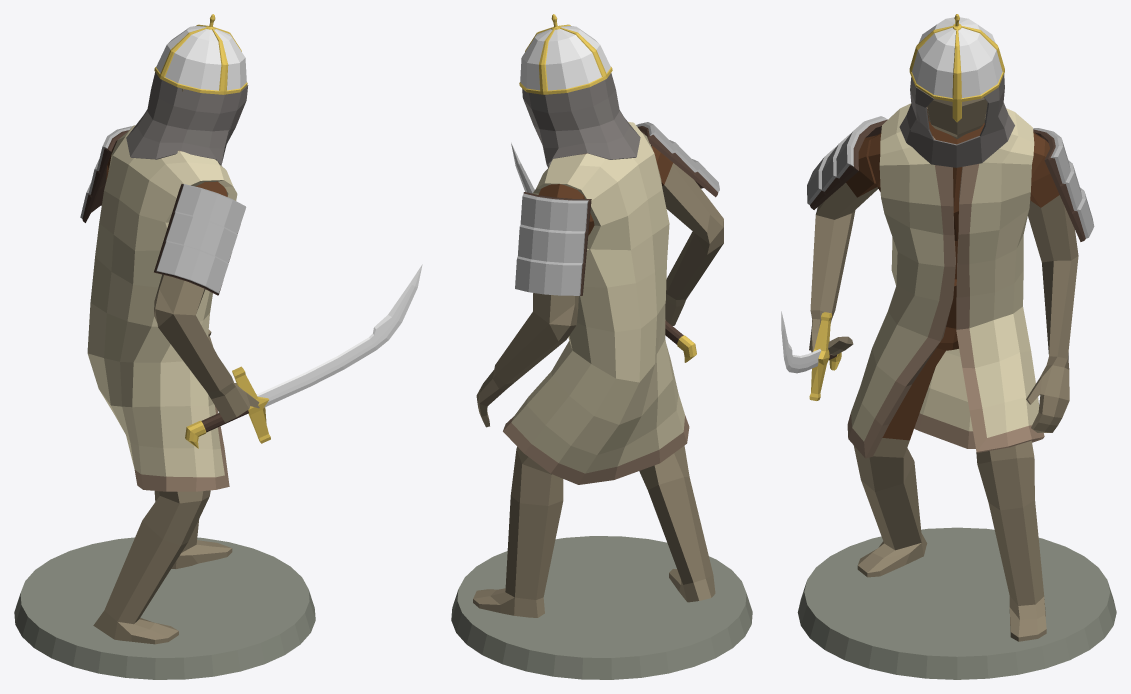
The model's file is fighter-waddle5.fbx.
3 renders of one model, left to right at view 1: azimuth 30°, elevation 25°; view 2: azimuth 150°, elevation 25°; view 3: azimuth 270°, elevation 25°, orthographic. The views are drawn at different scales.
Visible parts, largest first — view 1: Plane.003, Cylinder, Cube.003, Plane.004, Plane.001, Cube.002, Sphere, Cube.001, Plane.002; view 2: Plane.003, Cylinder, Cube.003, Plane.002, Plane.004, Cube.002, Cube, Sphere, Plane.001, Cube.001; view 3: Plane.003, Cylinder, Cube.003, Cube, Sphere, Cube.002, Plane.004, Plane.001, Plane.002, Cube.001.
Boxes of the visible parts, x1,y1,x2,y2 form: Plane.003: (87, 125, 237, 491); Cylinder: (14, 537, 315, 679); Cube.003: (93, 490, 232, 644); Plane.004: (126, 72, 248, 165); Plane.001: (154, 184, 246, 295); Cube.002: (154, 274, 259, 422); Sphere: (154, 14, 247, 94); Cube.001: (185, 264, 422, 448); Plane.002: (80, 126, 131, 222); Plane.003: (503, 122, 689, 484); Cylinder: (451, 536, 752, 679); Cube.003: (473, 445, 715, 617); Plane.002: (515, 192, 591, 295); Plane.004: (522, 73, 640, 167); Cube.002: (651, 145, 723, 325); Cube: (476, 184, 594, 427); Sphere: (519, 14, 612, 94); Plane.001: (636, 122, 719, 197); Cube.001: (511, 143, 696, 362); Plane.003: (847, 103, 1044, 458); Cylinder: (797, 527, 1116, 679); Cube.003: (853, 279, 1046, 641); Cube: (857, 97, 1078, 576); Sphere: (909, 14, 1004, 122); Cube.002: (809, 135, 878, 355); Plane.004: (899, 74, 1014, 167); Plane.001: (807, 116, 887, 209); Plane.002: (1033, 128, 1094, 241); Cube.001: (781, 311, 841, 400).
Bounding box in the file's own units: 576 × 1065 × 520.
